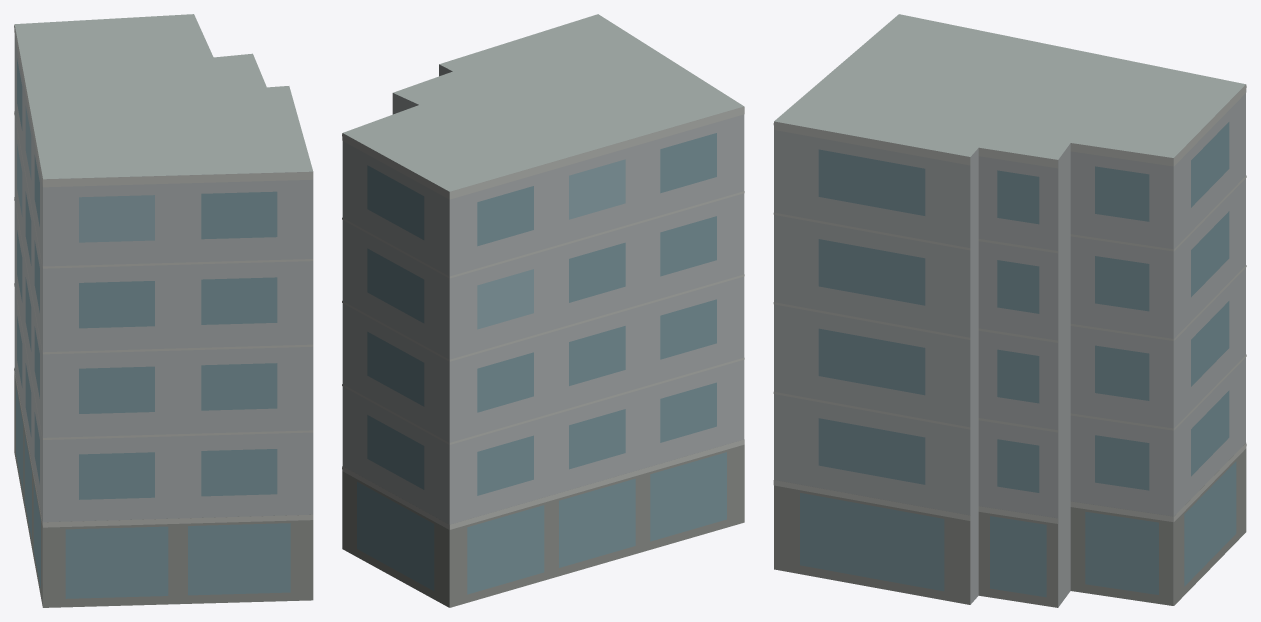
File: survey-upis-33043239.glb
3 views of the same model, side by side, from view 1: azimuth 30°, elevation 25°; view 2: azimuth 150°, elevation 25°; view 3: azimuth 270°, elevation 25° (orthographic). The views are drawn at different scales.
Parts seen in each view (by area): view 1: survey-upis-33043239.tmp; view 2: survey-upis-33043239.tmp; view 3: survey-upis-33043239.tmp.
Boxes of the visible parts, box(x1,y1,x2,y2) form: survey-upis-33043239.tmp: box(14, 14, 313, 607); survey-upis-33043239.tmp: box(342, 14, 744, 607); survey-upis-33043239.tmp: box(773, 14, 1246, 607).
Size of the model in its own units: 9.04 by 12.9 by 12.35.
